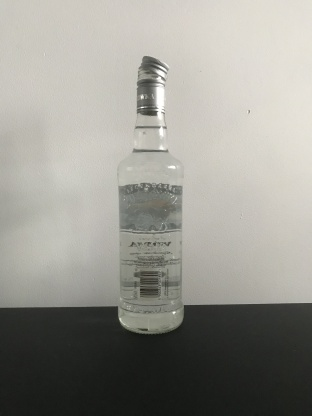nakretka: (135, 52, 170, 116)
